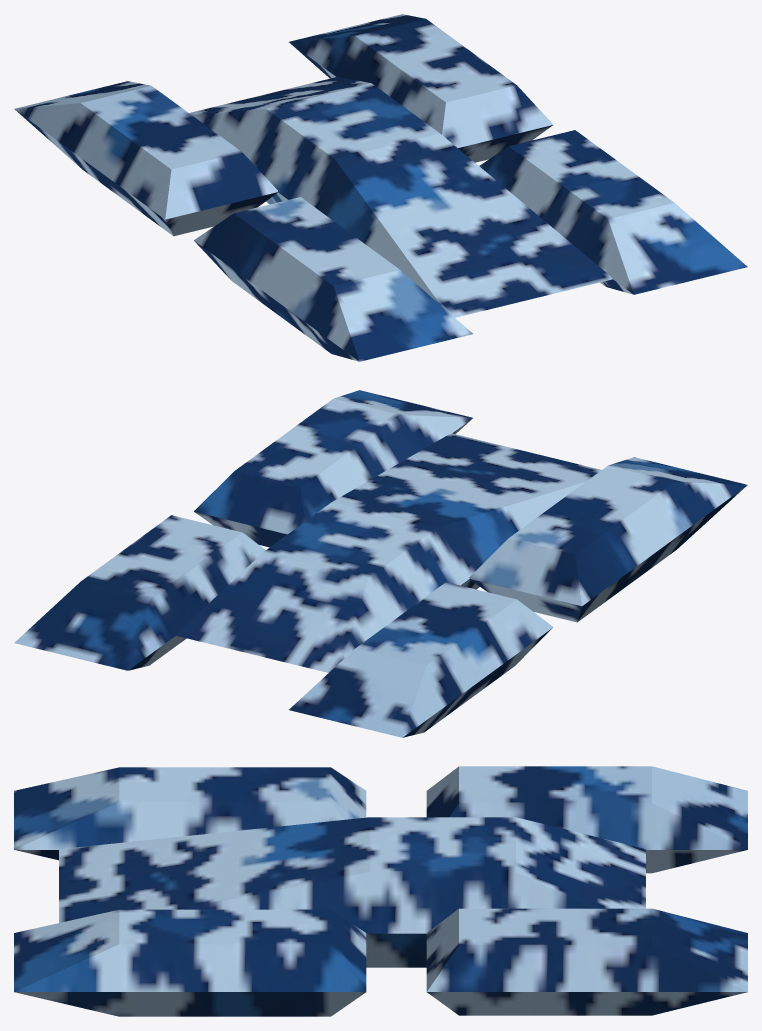
Rendered from Hovertank_Body.fbx.
3 renders of one model, top to bottom at view 1: azimuth 30°, elevation 25°; view 2: azimuth 150°, elevation 25°; view 3: azimuth 270°, elevation 25°, orthographic. The views are drawn at different scales.
Visible parts, largest first — view 1: Cube; view 2: Cube; view 3: Cube.
Boxes of the visible parts, x1,y1,x2,y2 form: Cube: (14,14,747,361); Cube: (14,390,747,737); Cube: (14,766,747,1016).
Size of the model in its own units: 2.27 by 0.5015 by 3.49.
1 material, 1 textured.
